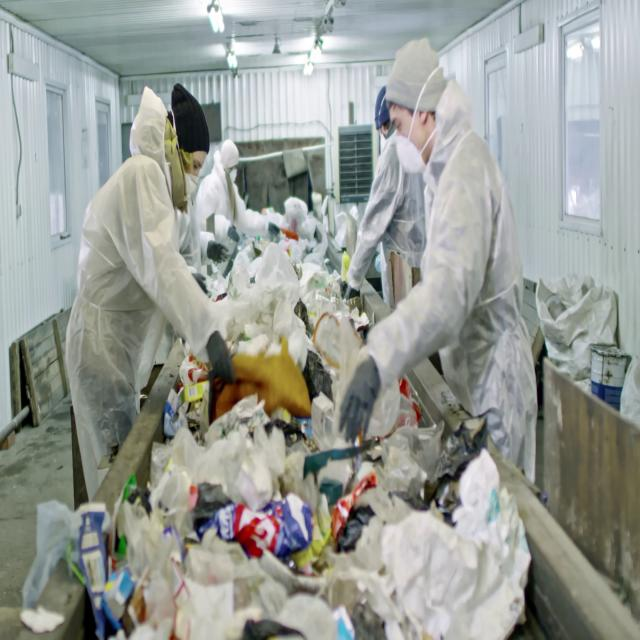gloved: (338, 354, 381, 443), (206, 330, 236, 385), (206, 240, 228, 263), (342, 284, 360, 302), (228, 225, 240, 242), (268, 221, 280, 236)
